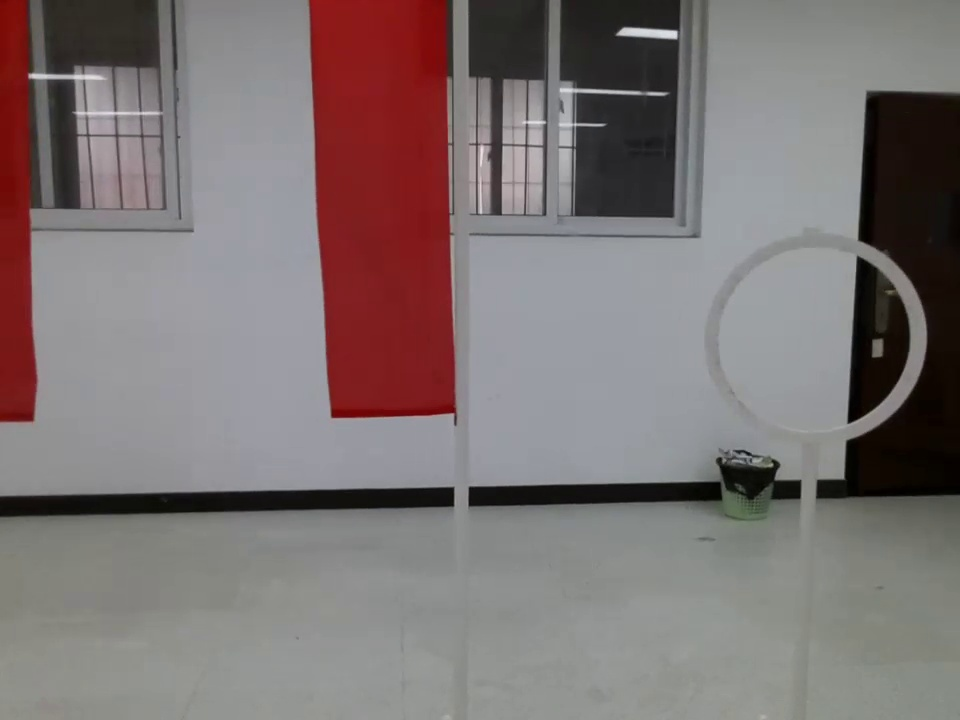qi: (297, 3, 472, 457), (1, 2, 49, 434)
quan: (689, 219, 939, 477)
